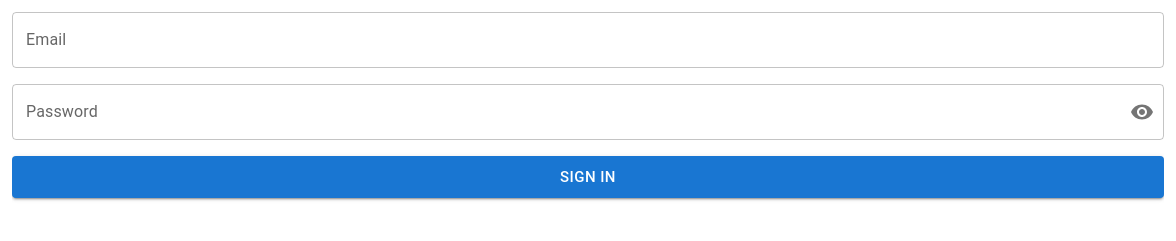
it: LoginForm › shows validation error when email is invalid
This screenshot has width=1176, height=241.
Step 1. Type "not-an-email" into the field labelled "Email" → (588, 40), box [12,12,1164,68]
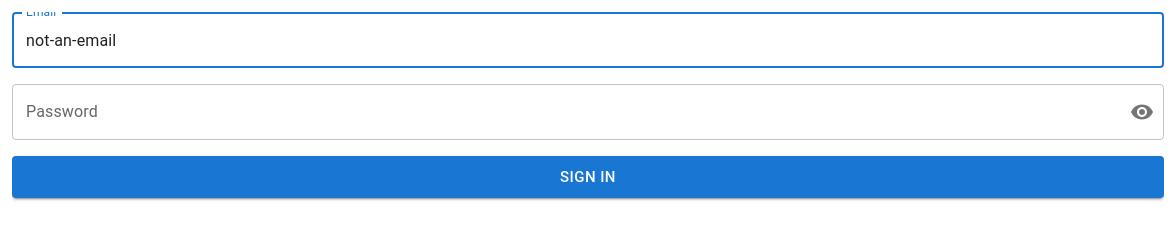
Step 2. Type "anything" into the password field labelled "Password" → (563, 112), box [12,84,1114,140]
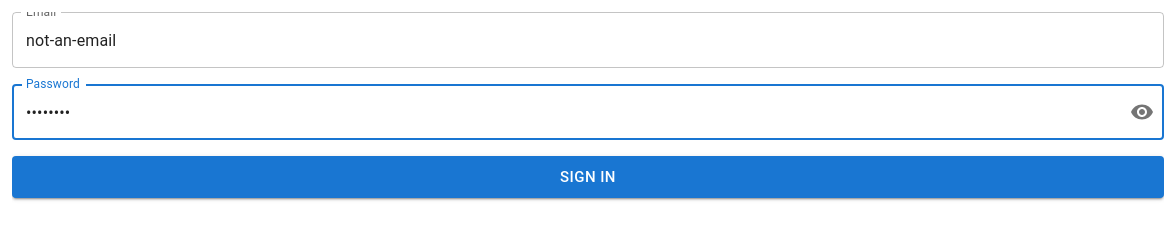
Step 3. Click the button "Sign in" → (588, 177), box [12,156,1164,198]
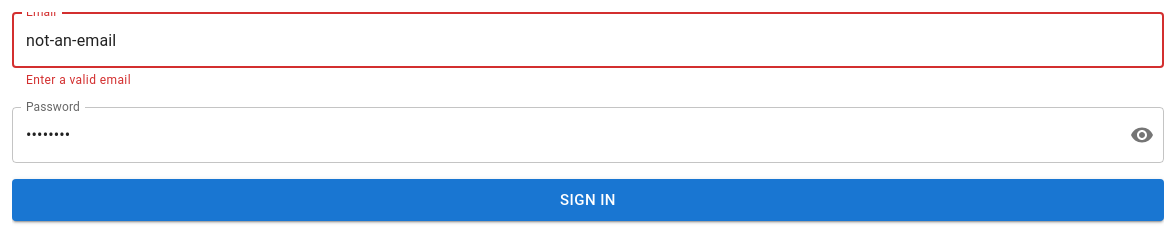
Expected: the text "Enter a valid email" is shown, [26,73,131,87]
